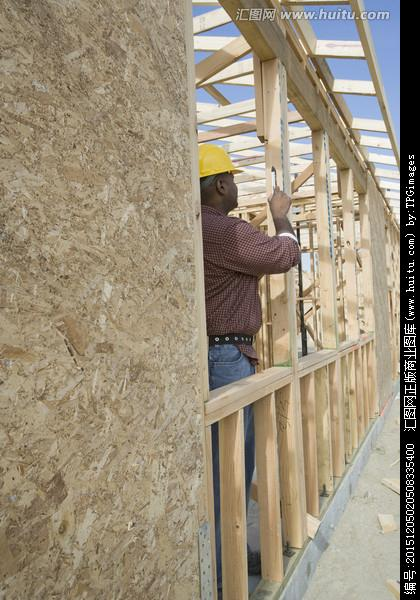helmet: (199, 141, 244, 180)
